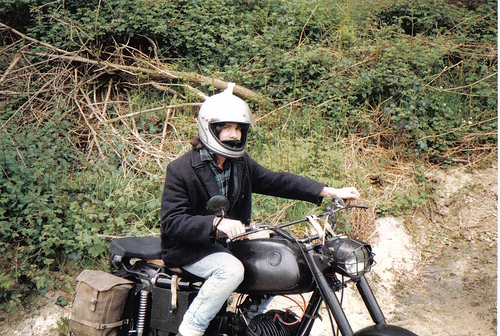helmet: (194, 97, 253, 162)
